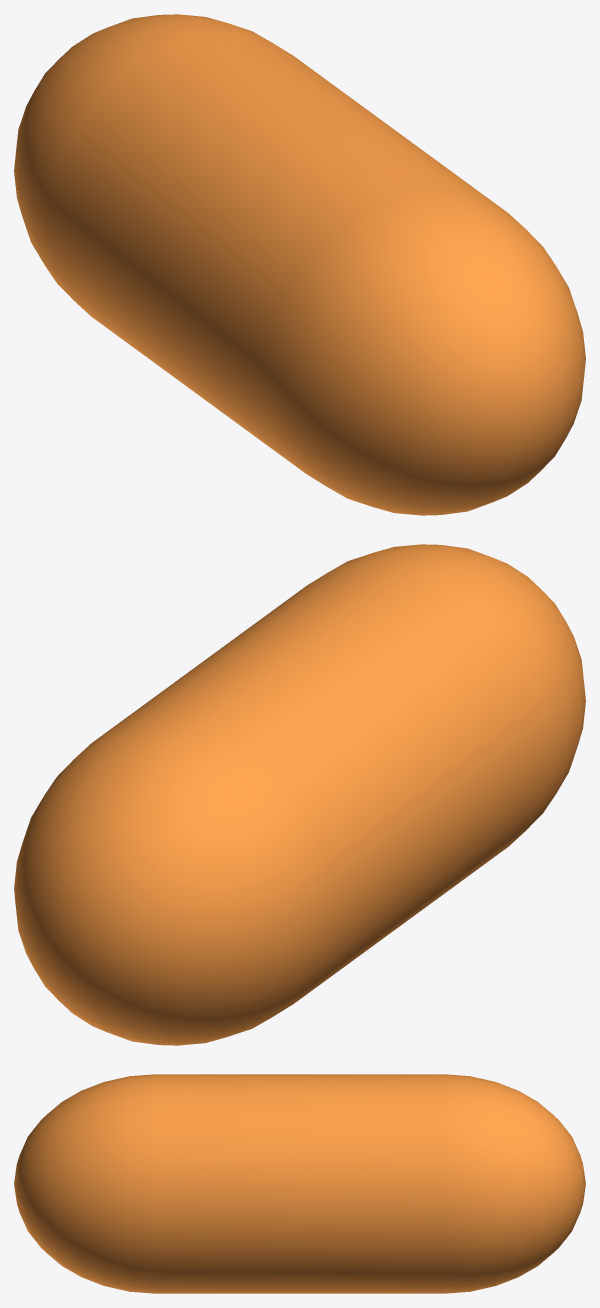
Rendered from BulletNormal_Poison.fbx.
3 views of the same model, one above another, from view 1: azimuth 30°, elevation 25°; view 2: azimuth 150°, elevation 25°; view 3: azimuth 270°, elevation 25° (orthographic). The views are drawn at different scales.
Visible parts, largest first — view 1: Capsule; view 2: Capsule; view 3: Capsule.
Part boxes in pixels (bbox=[...]): Capsule: bbox=[14, 14, 585, 515]; Capsule: bbox=[14, 544, 585, 1045]; Capsule: bbox=[14, 1074, 585, 1293].
Bounding box in the file's own units: 0.1559 × 0.1559 × 0.4057.
